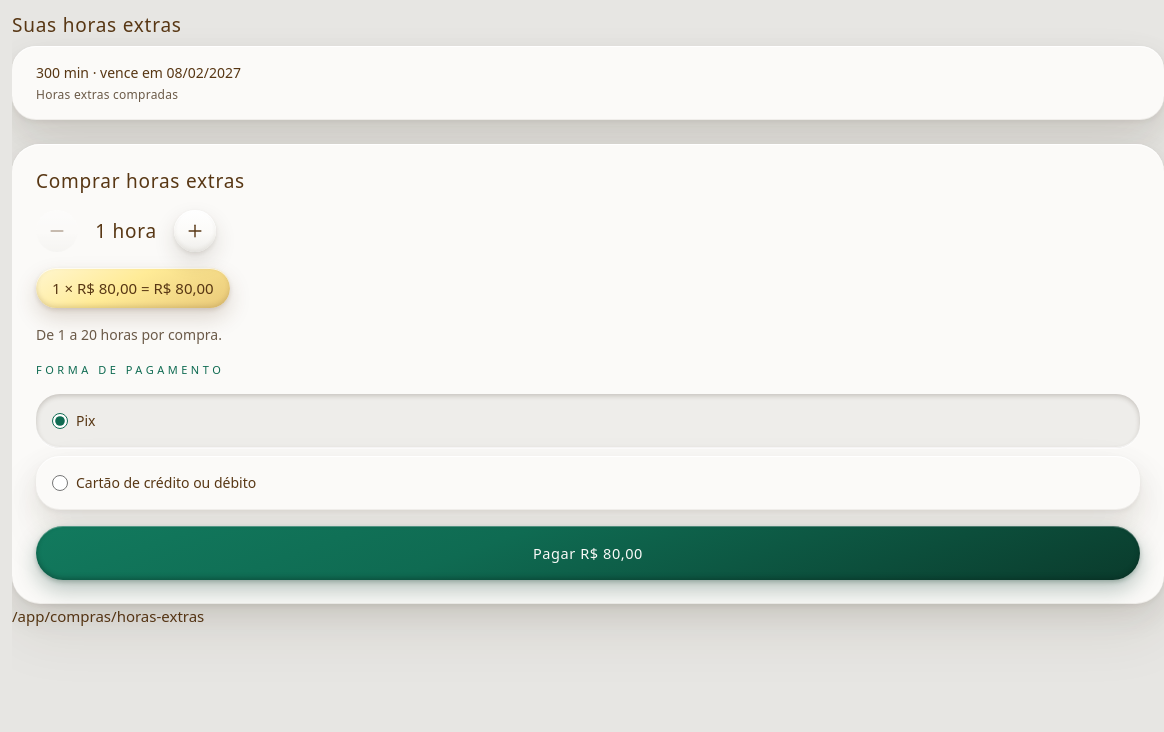
Scenario: HorasExtrasPage (REC-62, REC-63, REC-69) › shows "5 × R$ 80,00 = R$ 400,00" after raising the stepper to 5 hours
Click the button named "Aumentar uma hora" at (195, 231), box [174, 210, 216, 252]
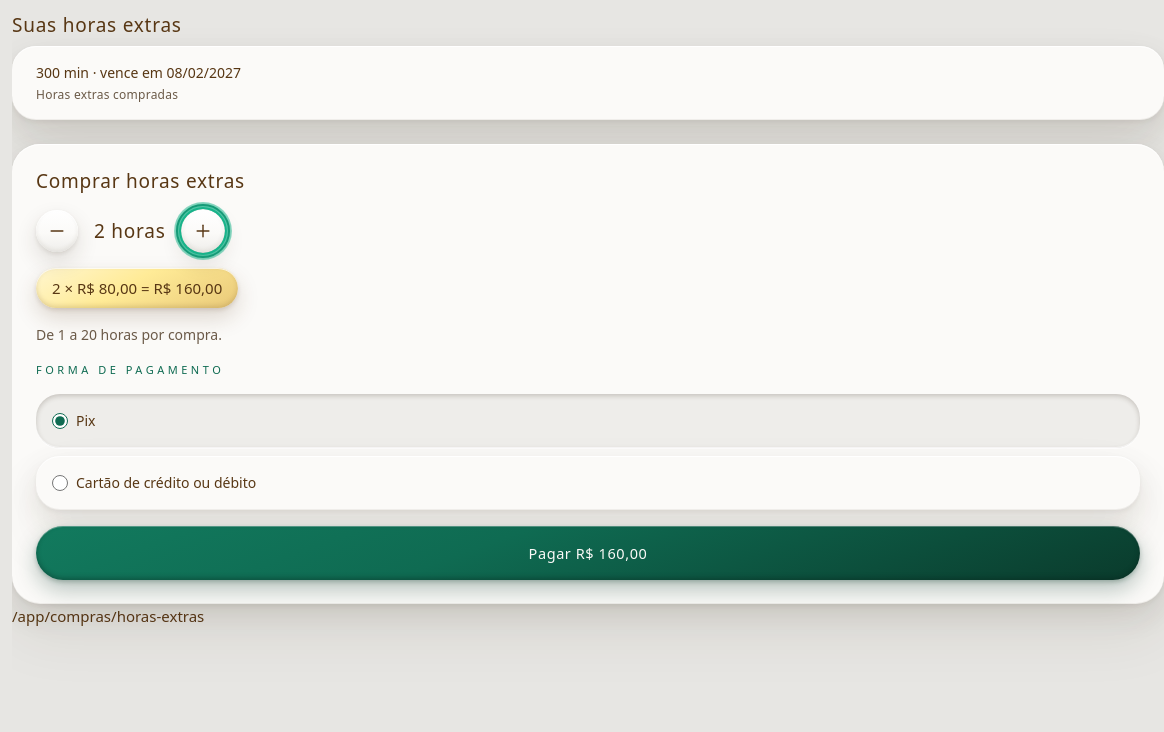
Click the button named "Aumentar uma hora" at (203, 231), box [182, 210, 224, 252]
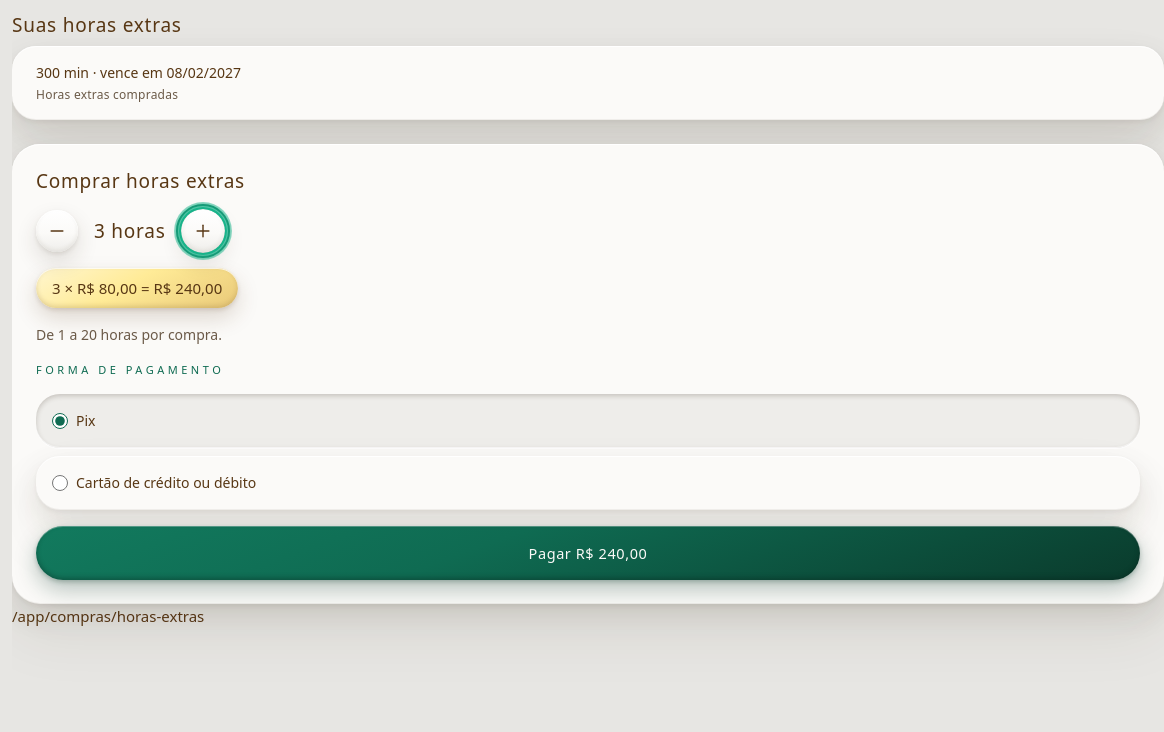
Click the button named "Aumentar uma hora" at (203, 231), box [182, 210, 224, 252]
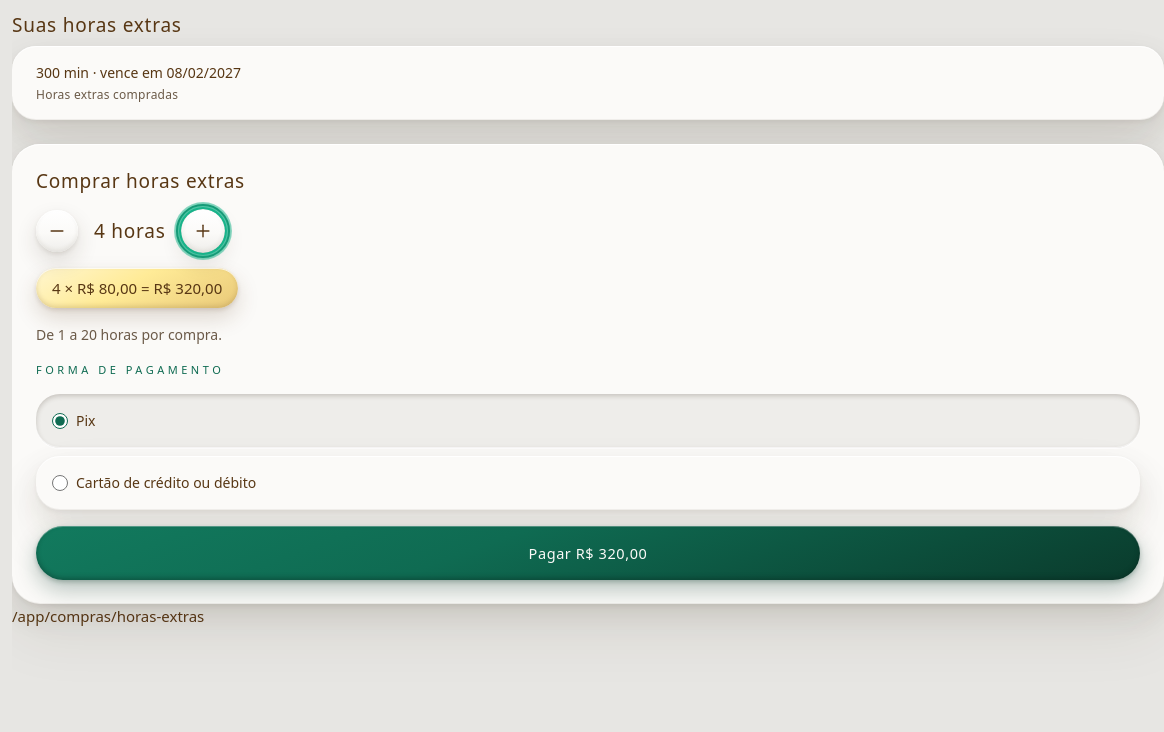
Click the button named "Aumentar uma hora" at (203, 231), box [182, 210, 224, 252]
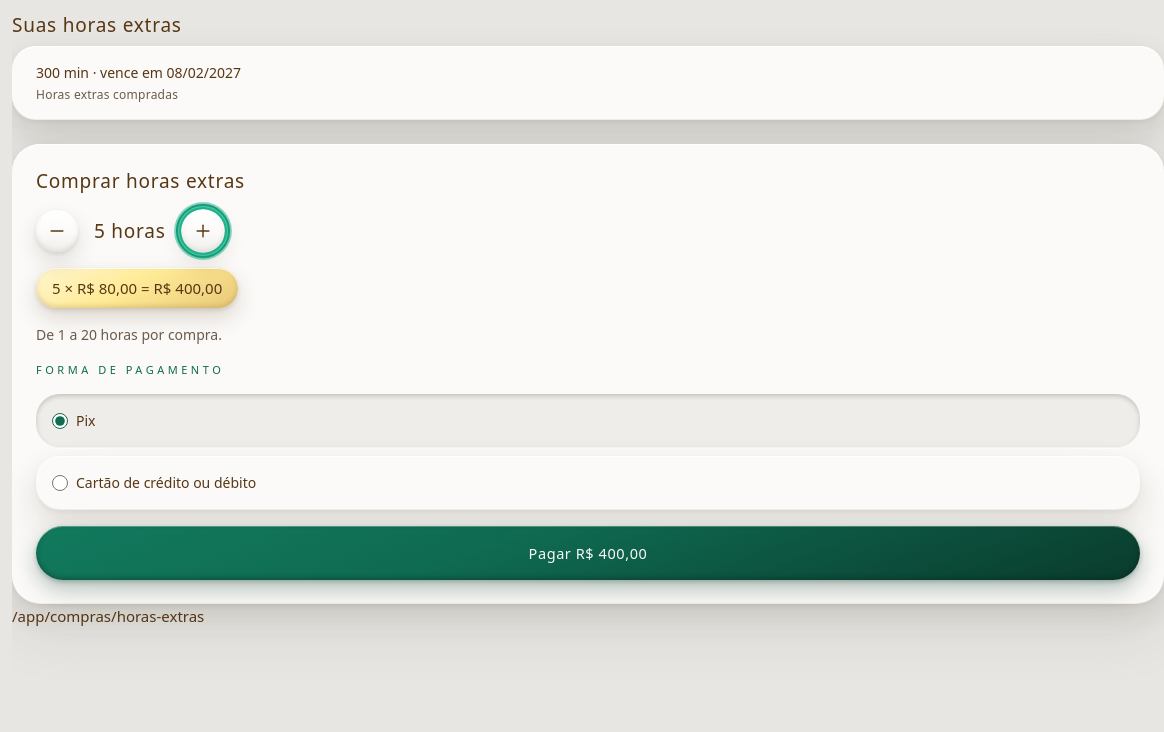
Check: the text "5 horas" is shown, box [94, 218, 166, 244]
